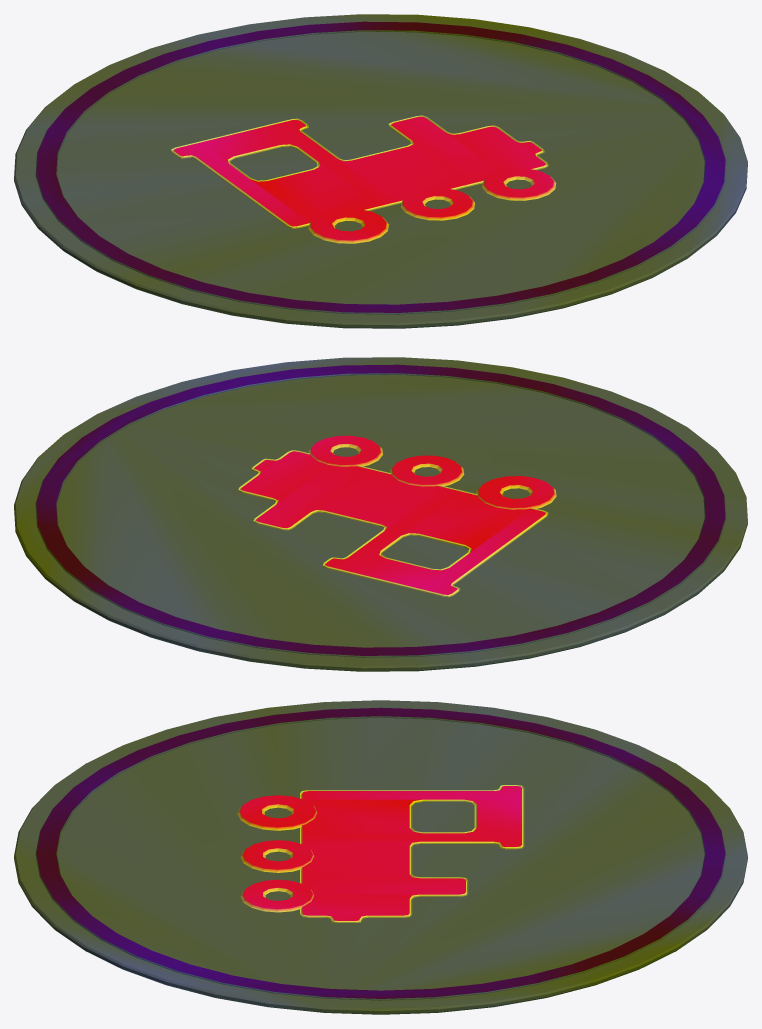
File: GS_Rug.fbx
3 views of the same model, one above another, from view 1: azimuth 30°, elevation 25°; view 2: azimuth 150°, elevation 25°; view 3: azimuth 270°, elevation 25° (orthographic).
Visible parts, largest first — view 1: GS_Rug; view 2: GS_Rug; view 3: GS_Rug.
Boxes of the visible parts, x1=… form: GS_Rug: x1=14, y1=14, x2=747, y2=328; GS_Rug: x1=14, y1=357, x2=747, y2=671; GS_Rug: x1=14, y1=700, x2=747, y2=1014.
Size of the model in its own units: 3.4 by 0.042 by 3.4.
